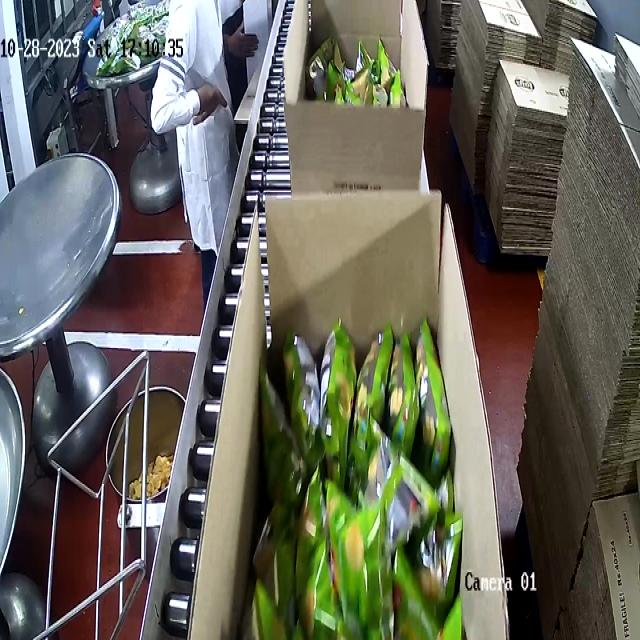YOGURT_HERB: (251, 315, 462, 637), (306, 30, 404, 104)
